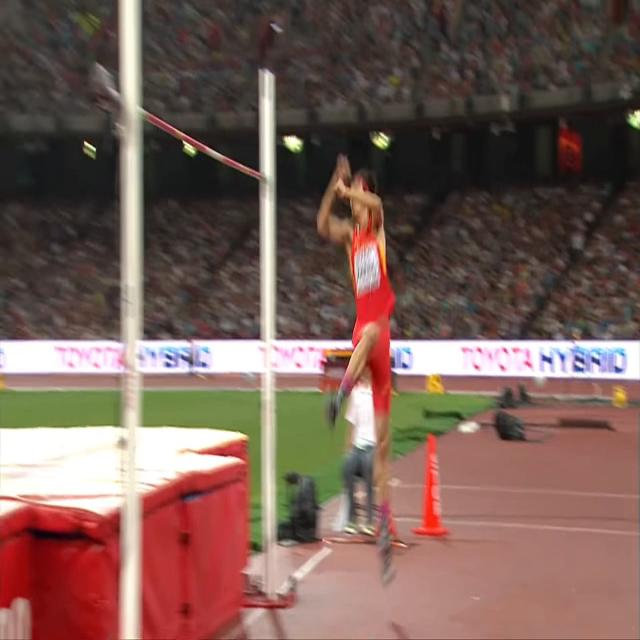jump: (318, 154, 396, 586)
